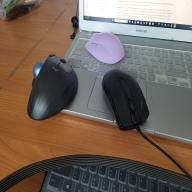mouse: (25, 52, 78, 122), (102, 68, 150, 135), (84, 31, 125, 65)
